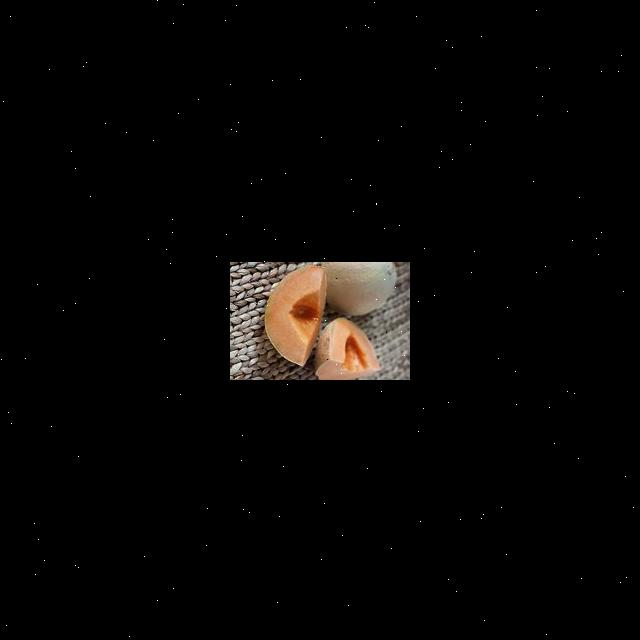Hami Melon: (266, 266, 328, 365), (314, 316, 382, 379), (322, 262, 400, 314)
